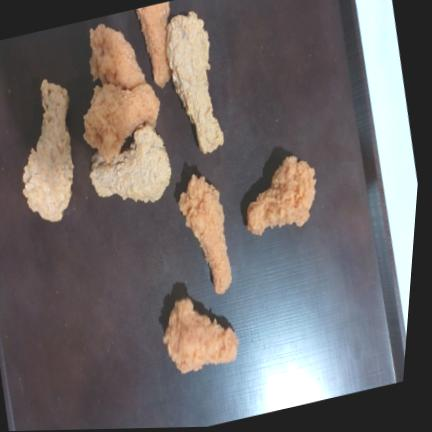chicken: (166, 11, 224, 153), (23, 79, 74, 221), (179, 174, 232, 294), (90, 124, 171, 202), (84, 83, 159, 163), (164, 298, 238, 373), (246, 156, 316, 235), (90, 24, 146, 89), (136, 1, 172, 87)
